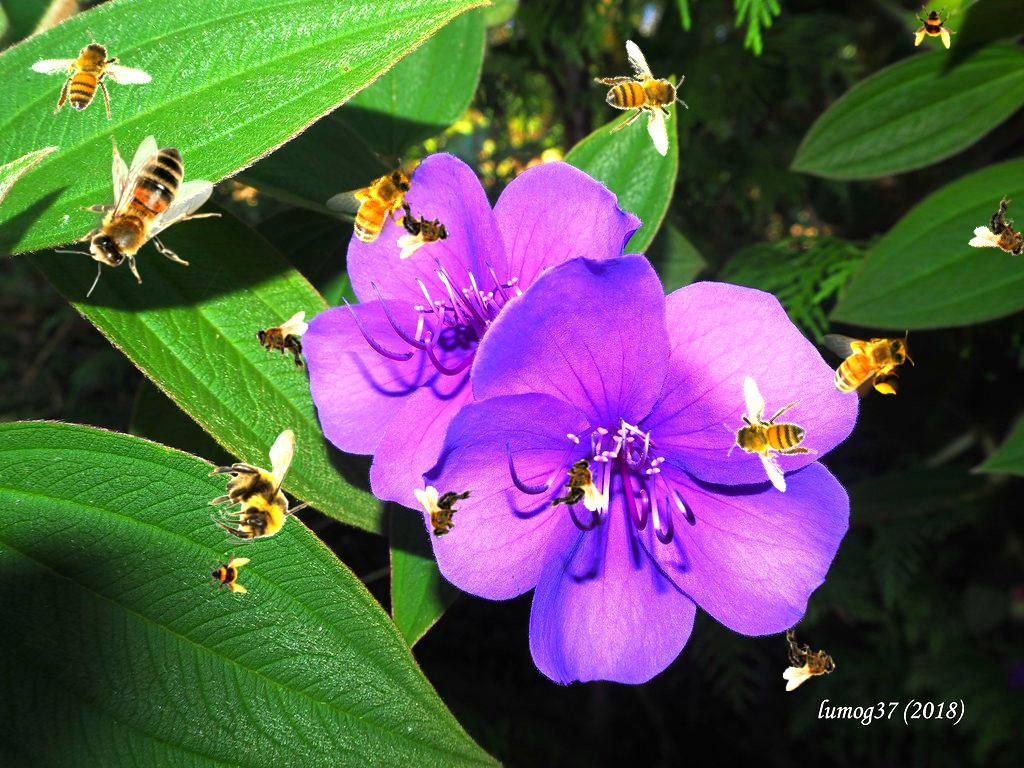Bee: (55, 135, 222, 297), (696, 358, 841, 504), (571, 28, 716, 174), (25, 13, 162, 141), (207, 429, 314, 544), (322, 155, 436, 258), (821, 330, 914, 398), (965, 192, 1024, 274), (397, 197, 450, 259), (255, 311, 308, 373), (546, 458, 608, 511), (414, 486, 476, 539), (783, 629, 836, 691), (913, 5, 957, 49), (206, 551, 250, 595)
